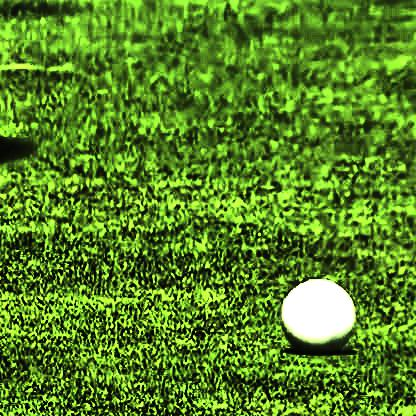golfball: (281, 288, 346, 347)
